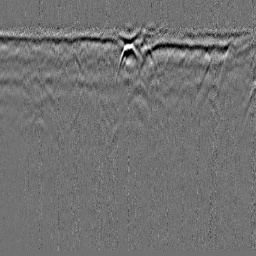cavity: (114, 42, 139, 79)
